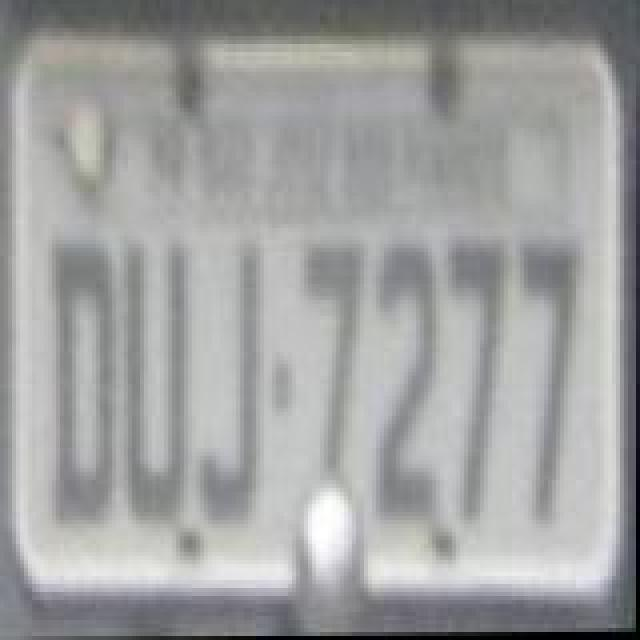2: (372, 240, 440, 536)
7: (446, 236, 510, 528), (518, 240, 582, 532), (302, 238, 366, 482)
D: (50, 234, 122, 530)
J: (196, 240, 264, 540)
U: (124, 234, 192, 530)
